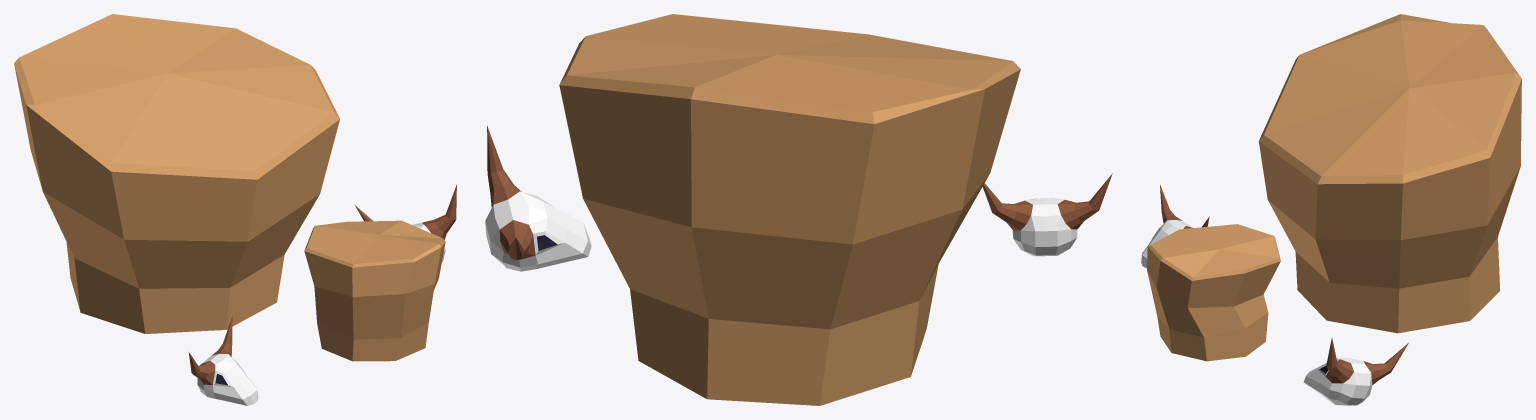
File: Desert2.fbx
3 renders of one model, left to right at view 1: azimuth 30°, elevation 25°; view 2: azimuth 150°, elevation 25°; view 3: azimuth 270°, elevation 25°, orthographic. The views are drawn at different scales.
Parts seen in each view (by area): view 1: Desert2; view 2: Desert2; view 3: Desert2.
Part boxes in pixels (box(x1,y1,x2,y2)): Desert2: box(14, 14, 456, 405); Desert2: box(485, 14, 1112, 405); Desert2: box(1141, 14, 1521, 405).
Size of the model in its own units: 0.8029 by 0.4799 by 0.7093.
